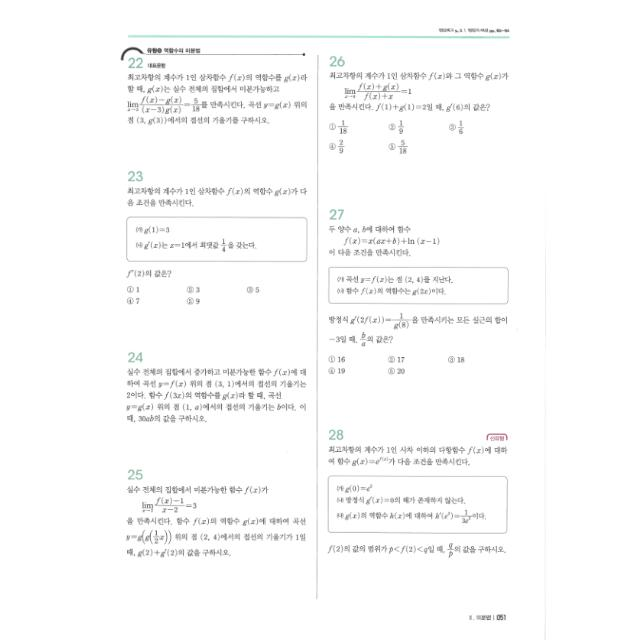multiple: (322, 202, 514, 382), (118, 166, 312, 310), (322, 46, 514, 162)
short: (321, 422, 517, 564), (120, 463, 310, 562), (114, 41, 312, 131), (122, 345, 310, 427)
